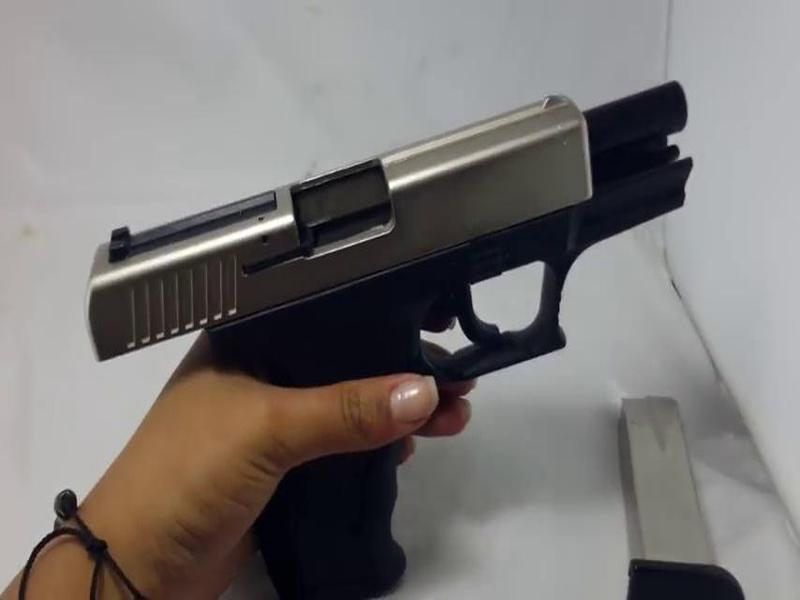Pistola: (91, 64, 694, 596)
